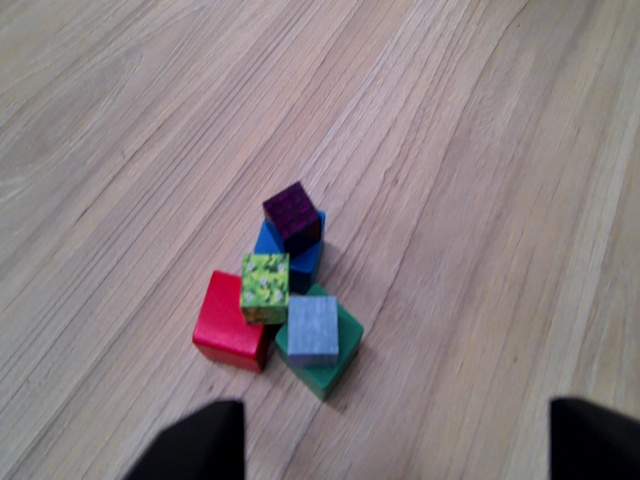brick: (265, 180, 322, 254)
grass: (239, 252, 286, 324)
stone: (289, 297, 340, 369)
